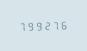nine: (25, 20, 32, 31), (34, 20, 41, 31)
seven: (17, 20, 24, 31), (50, 19, 57, 30)
six: (58, 19, 65, 30)
two: (42, 20, 49, 30)
